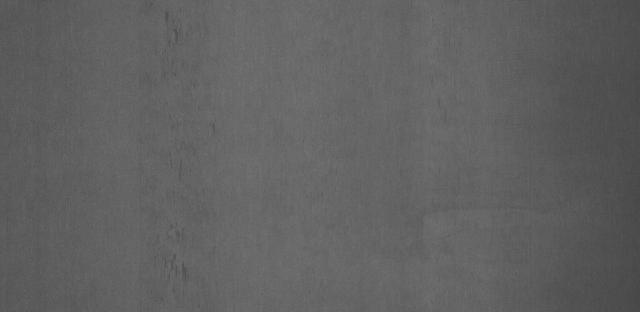silk_spot: (140, 13, 222, 281)
